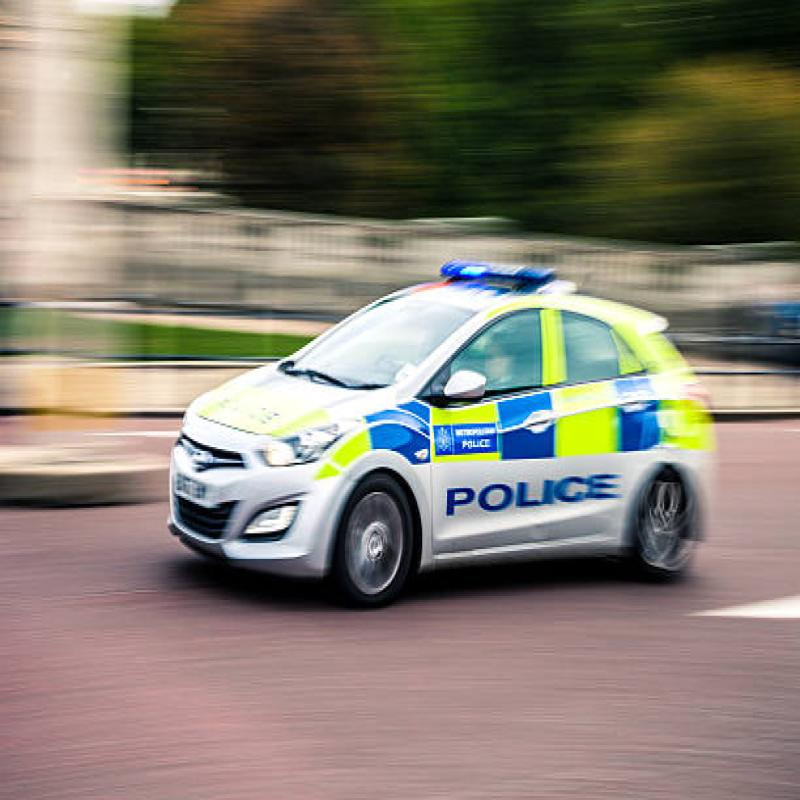AmbulanceSiren: (436, 234, 548, 306)
